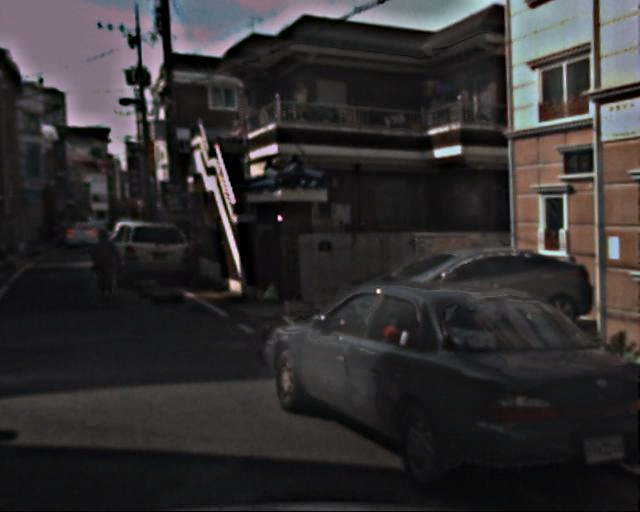person: (94, 227, 122, 296)
